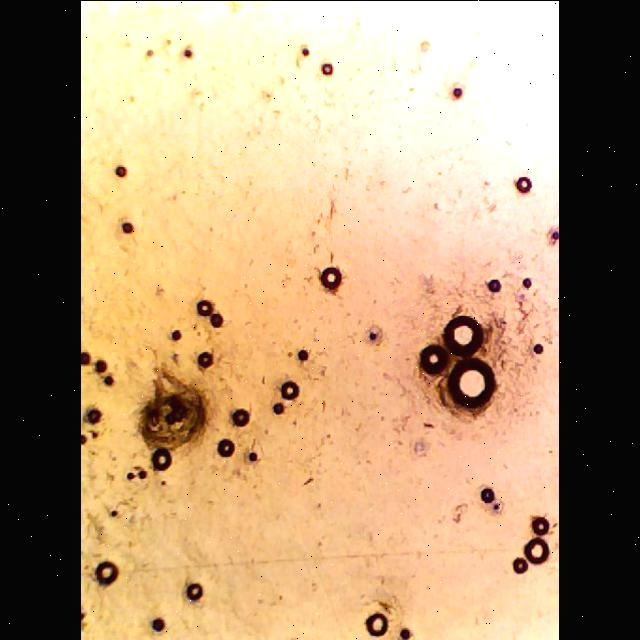microbeads: (139, 374, 213, 454), (442, 356, 500, 422), (441, 308, 485, 358)
